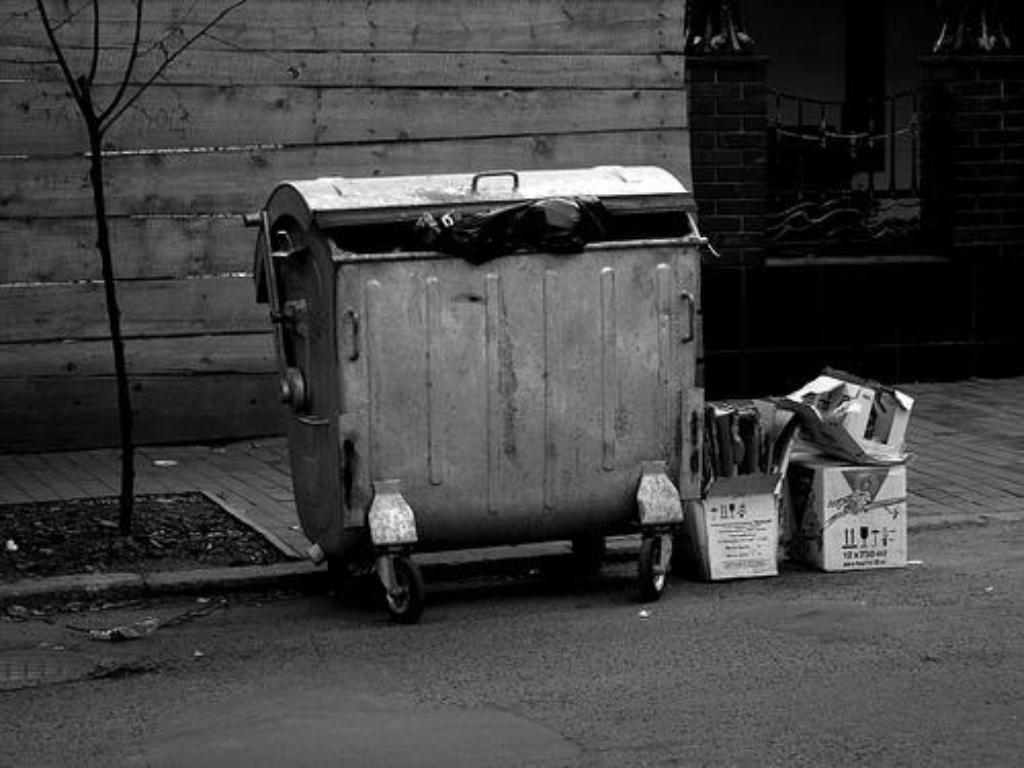dustbin: (242, 161, 717, 612)
